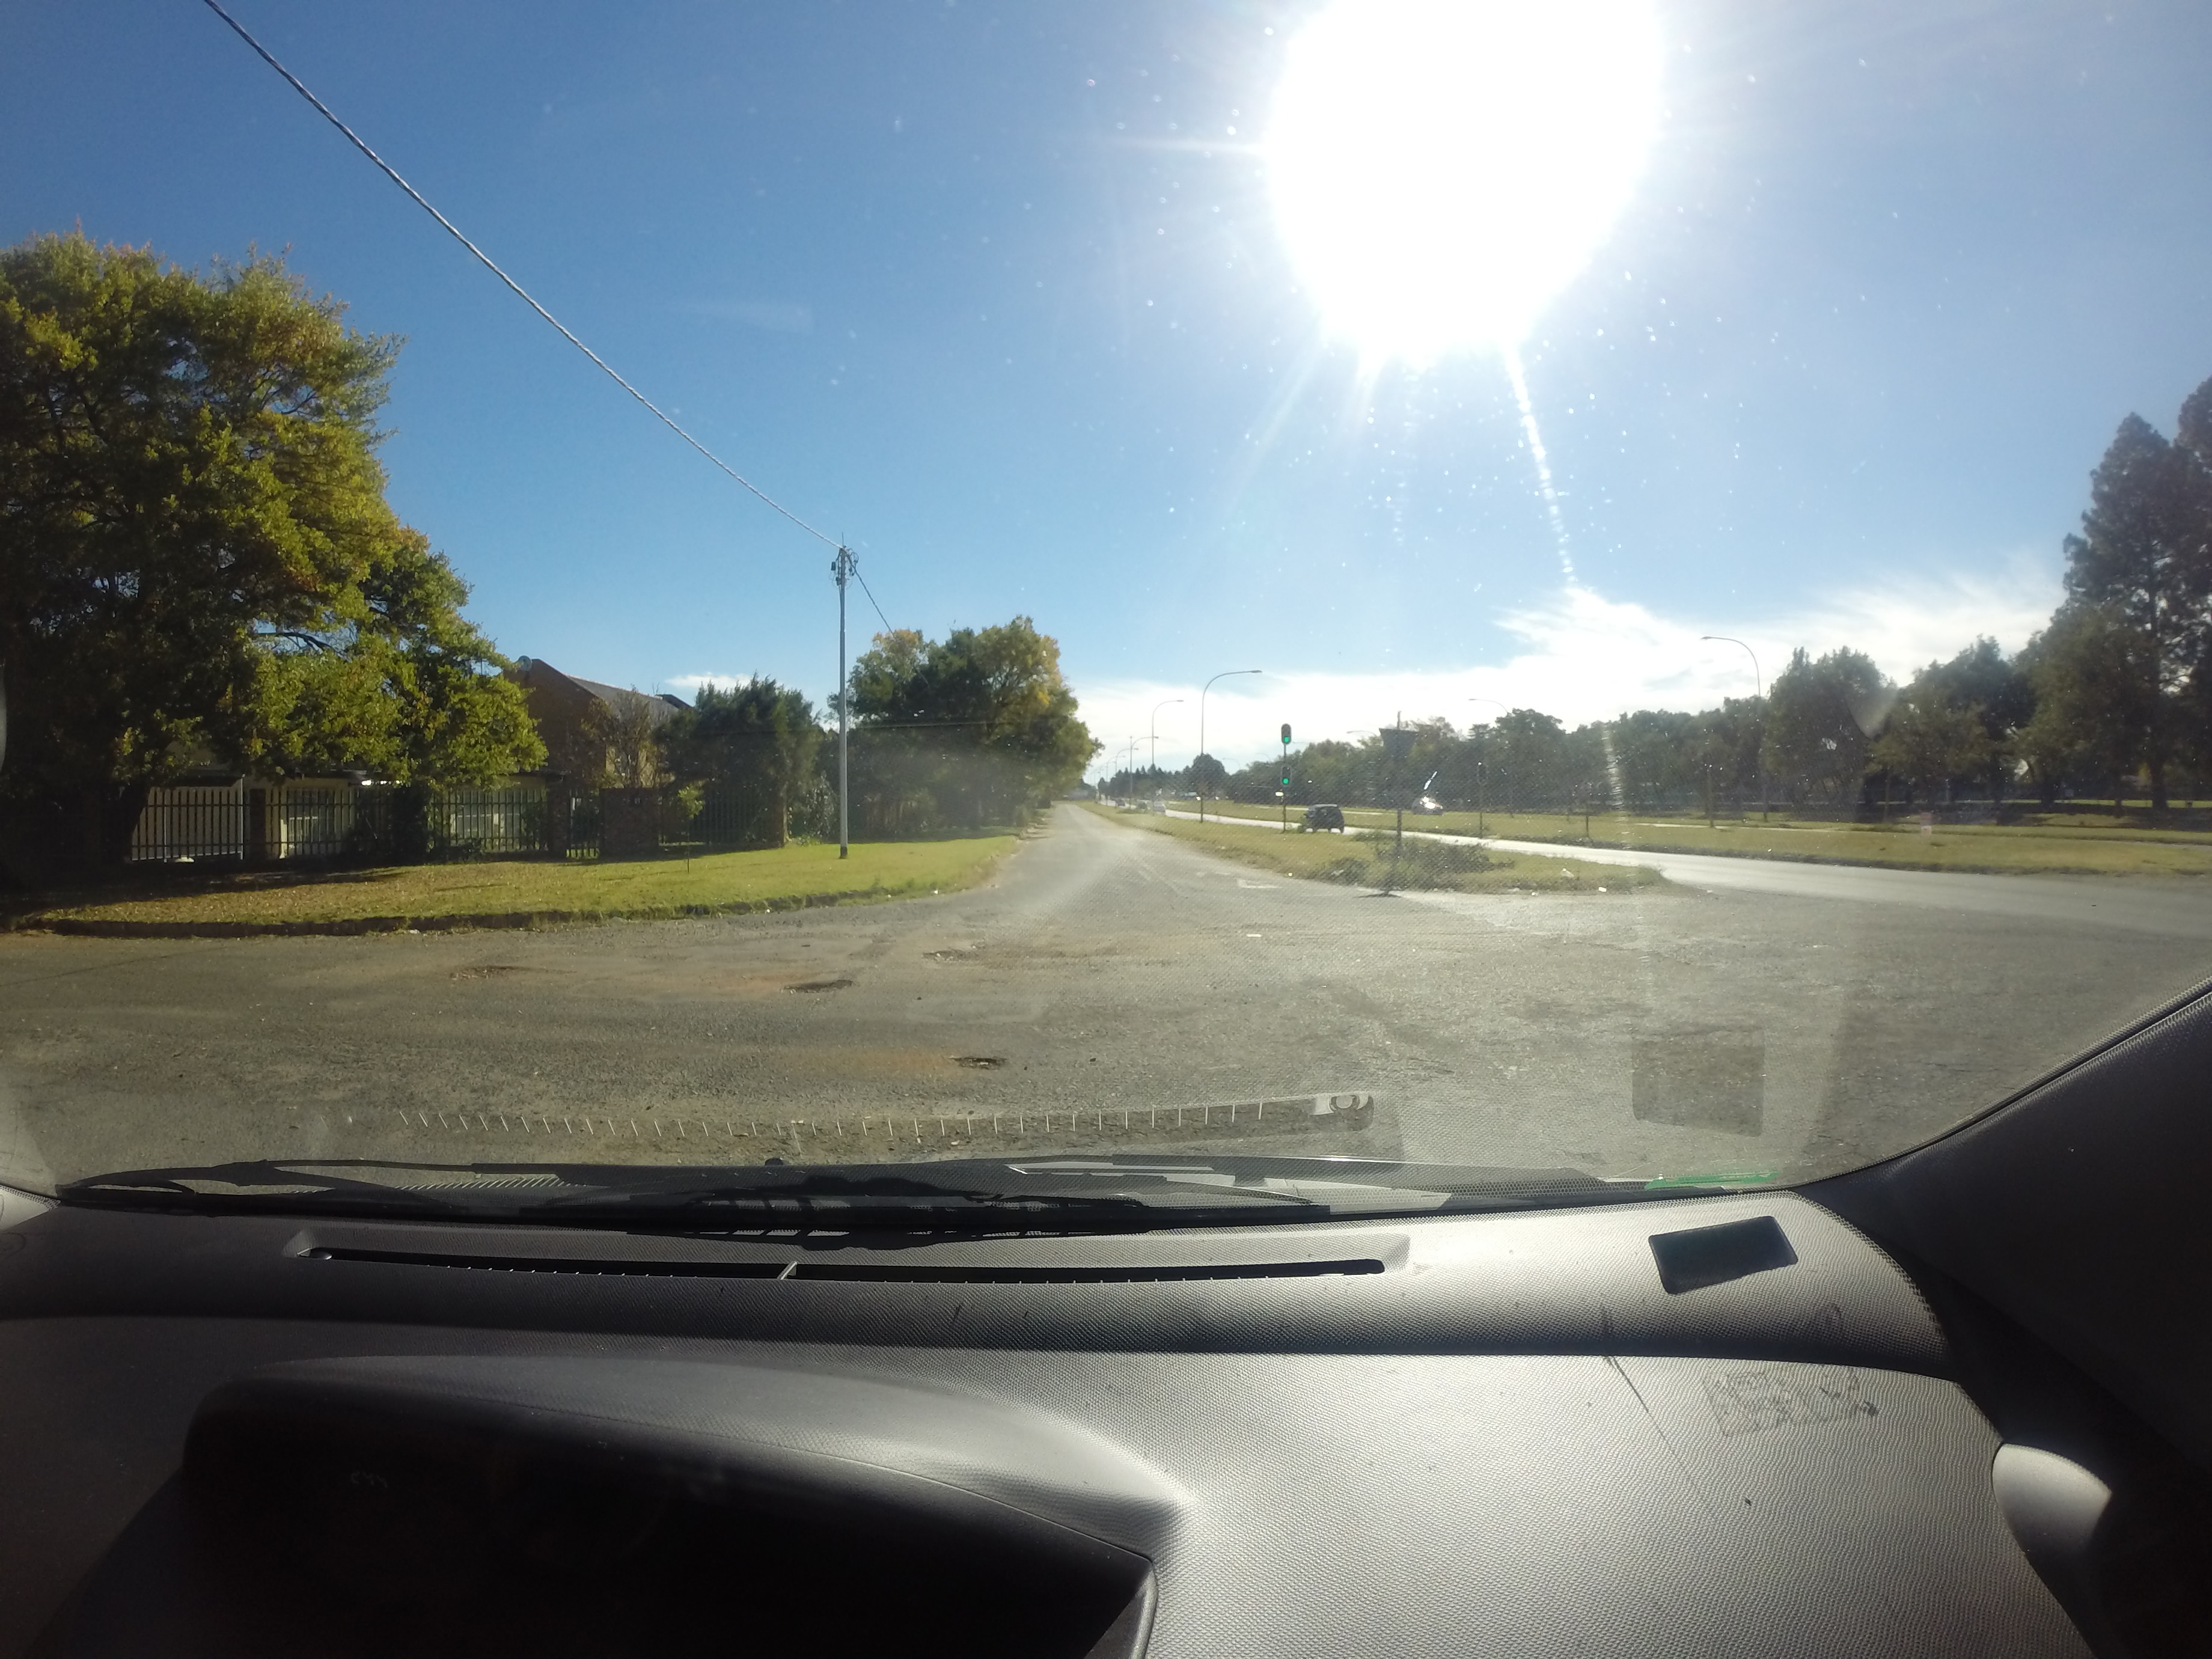pothole: (777, 932, 916, 1044), (914, 1033, 1064, 1112)
